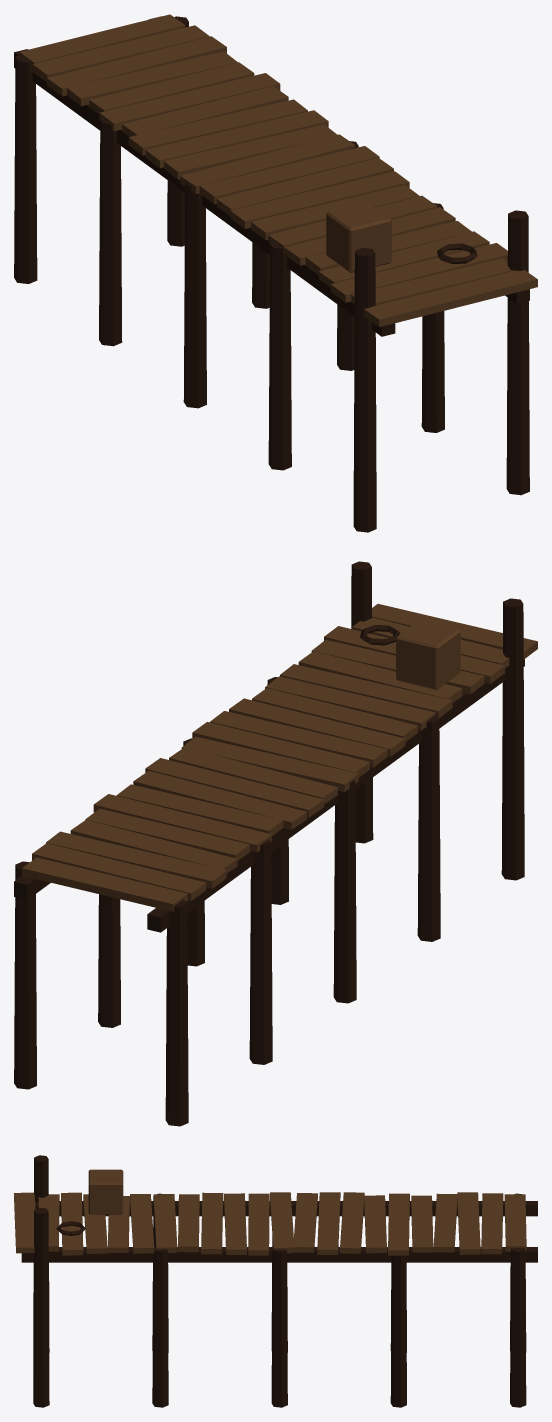
Rendered from muelle.fbx.
3 renders of one model, top to bottom at view 1: azimuth 30°, elevation 25°; view 2: azimuth 150°, elevation 25°; view 3: azimuth 270°, elevation 25°, orthographic. The views are drawn at different scales.
Parts seen in each view (by area): view 1: muelle; view 2: muelle; view 3: muelle.
Part boxes in pixels (box(x1,y1,x2,y2)): muelle: box(14, 14, 537, 532); muelle: box(14, 561, 537, 1126); muelle: box(14, 1155, 537, 1407).
Size of the model in its own units: 2.83 by 4.3 by 10.55.
